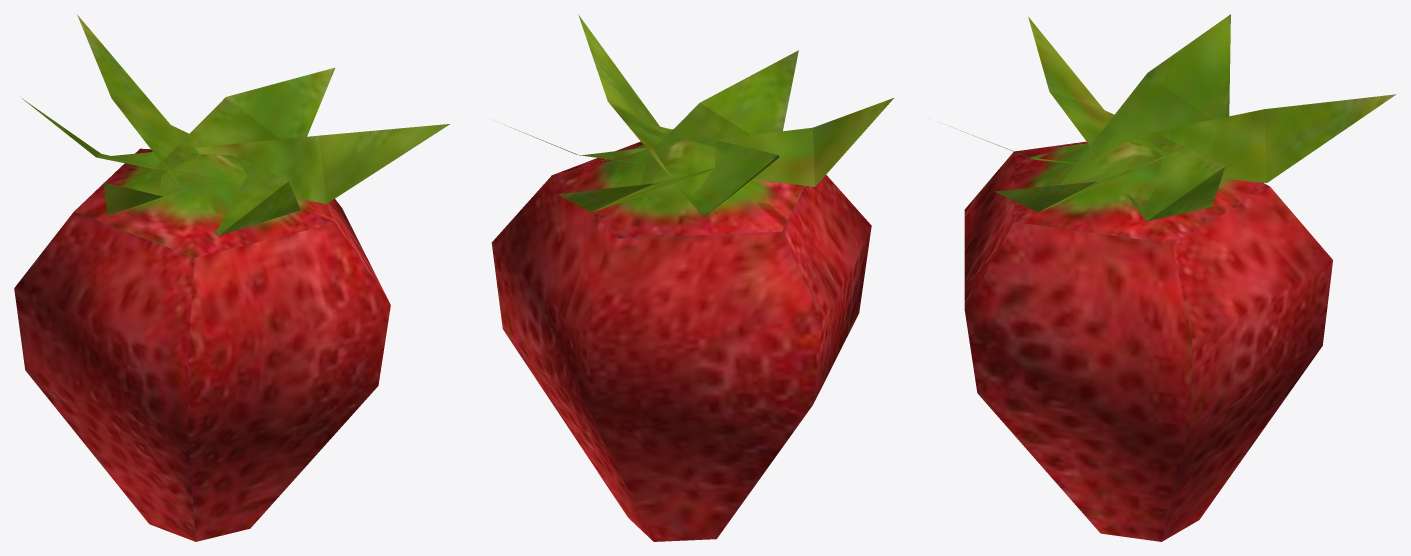
Rendered from Strawberry.glb.
3 renders of one model, left to right at view 1: azimuth 30°, elevation 25°; view 2: azimuth 150°, elevation 25°; view 3: azimuth 270°, elevation 25°, orthographic. The views are drawn at different scales.
Visible parts, largest first — view 1: Strawberry; view 2: Strawberry; view 3: Strawberry.
Part boxes in pixels (x1,y1,x2,y2): Strawberry: [14, 14, 449, 541]; Strawberry: [491, 14, 893, 541]; Strawberry: [950, 14, 1395, 541].
Size of the model in its own units: 0.0847 by 0.1017 by 0.1001.
1 material, 1 textured.
